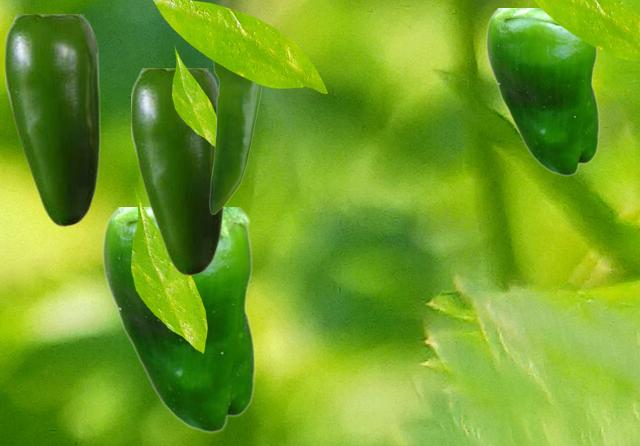green_chili: (101, 207, 254, 432), (5, 14, 99, 226), (131, 68, 223, 275), (485, 8, 598, 175), (209, 61, 262, 213)
